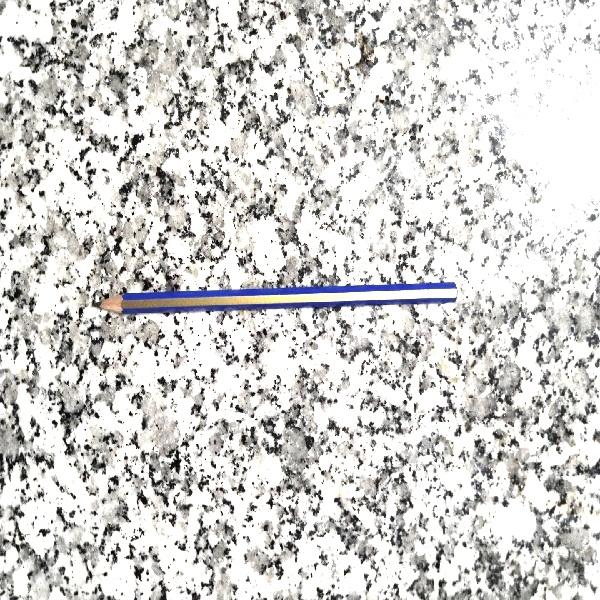pencil: (91, 283, 460, 314)
